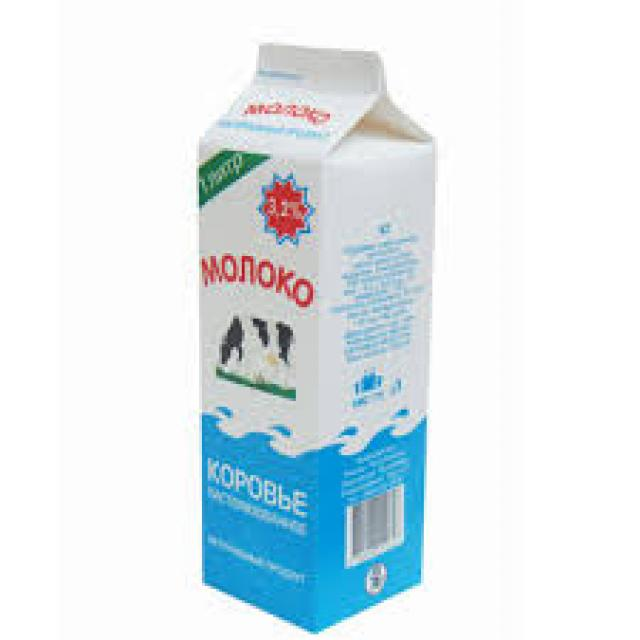non_white_jug: (192, 33, 428, 638)
